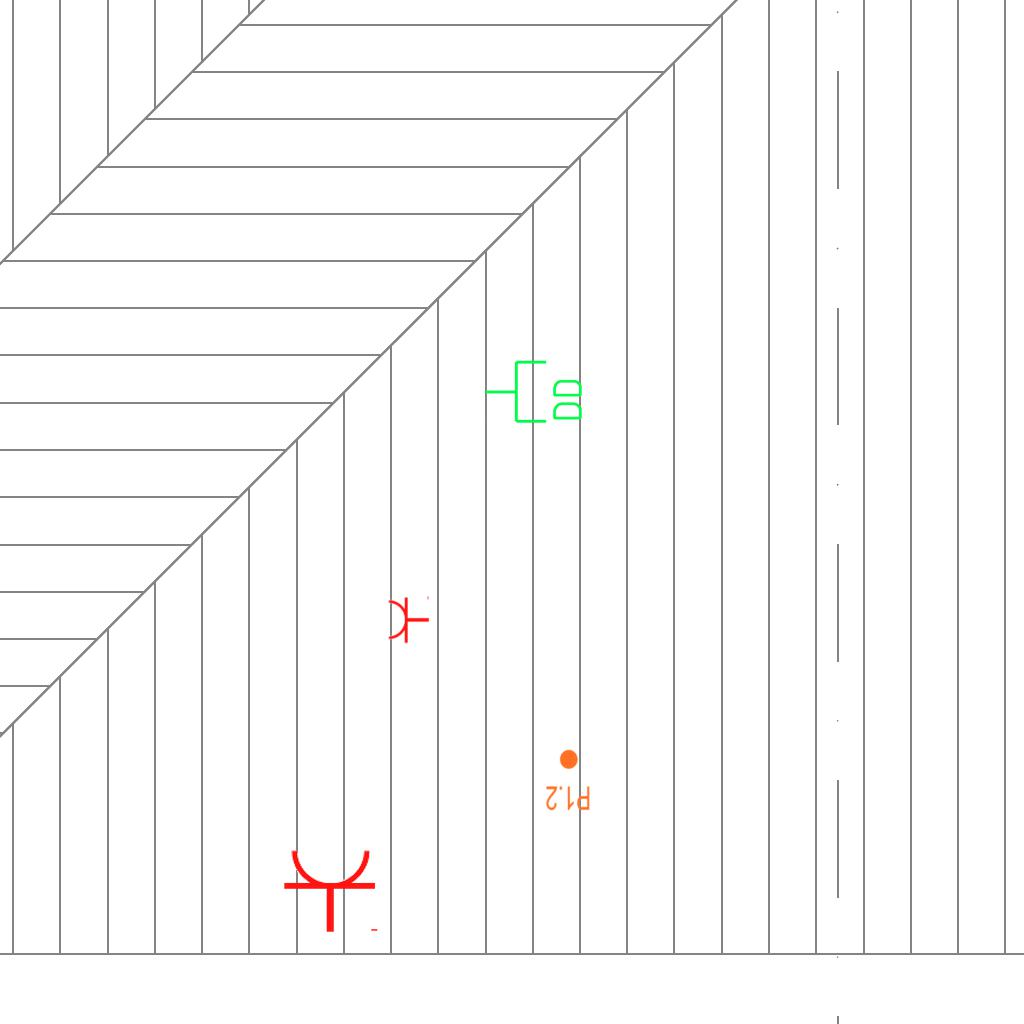Datenanschluss_zweifach: (483, 358, 586, 427)
Downlight_LED_Einbauleuchten_Flur: (545, 748, 591, 812)
Schukosteckdose_einfach: (282, 847, 382, 934), (387, 594, 430, 644)
